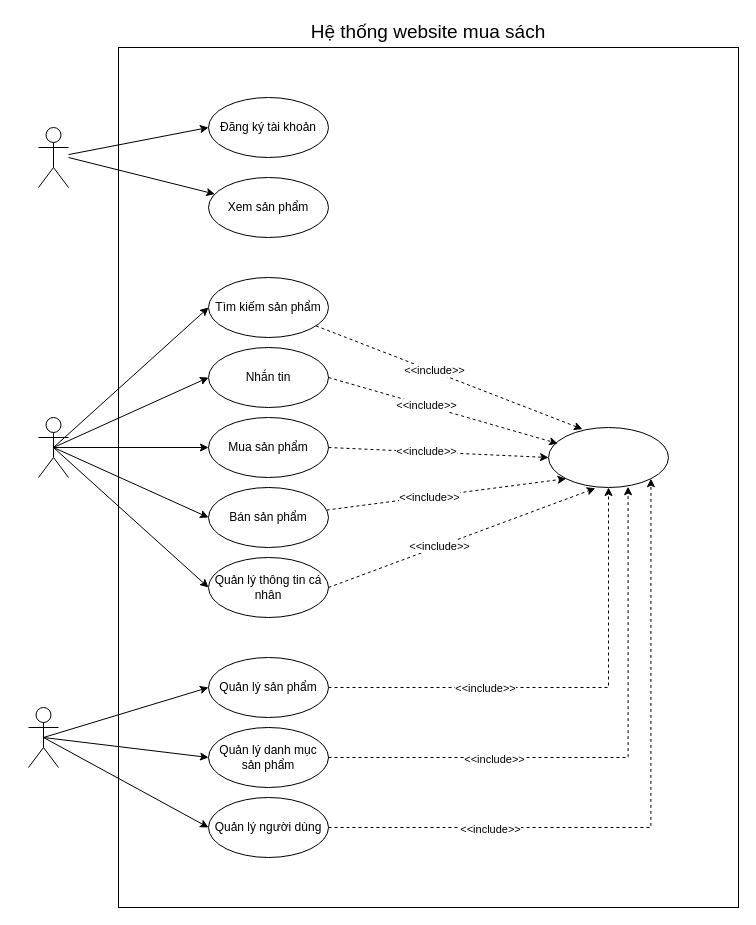
Some shapes in this 756 by 925 pixel diagram are drawn without their labels. Each missing label, with the box of its shape:
Admin: (28, 706, 58, 768)
Khách không đăng nhập: (38, 126, 68, 188)
Người dùng: (38, 416, 68, 478)
Đăng nhập: (548, 426, 668, 488)
